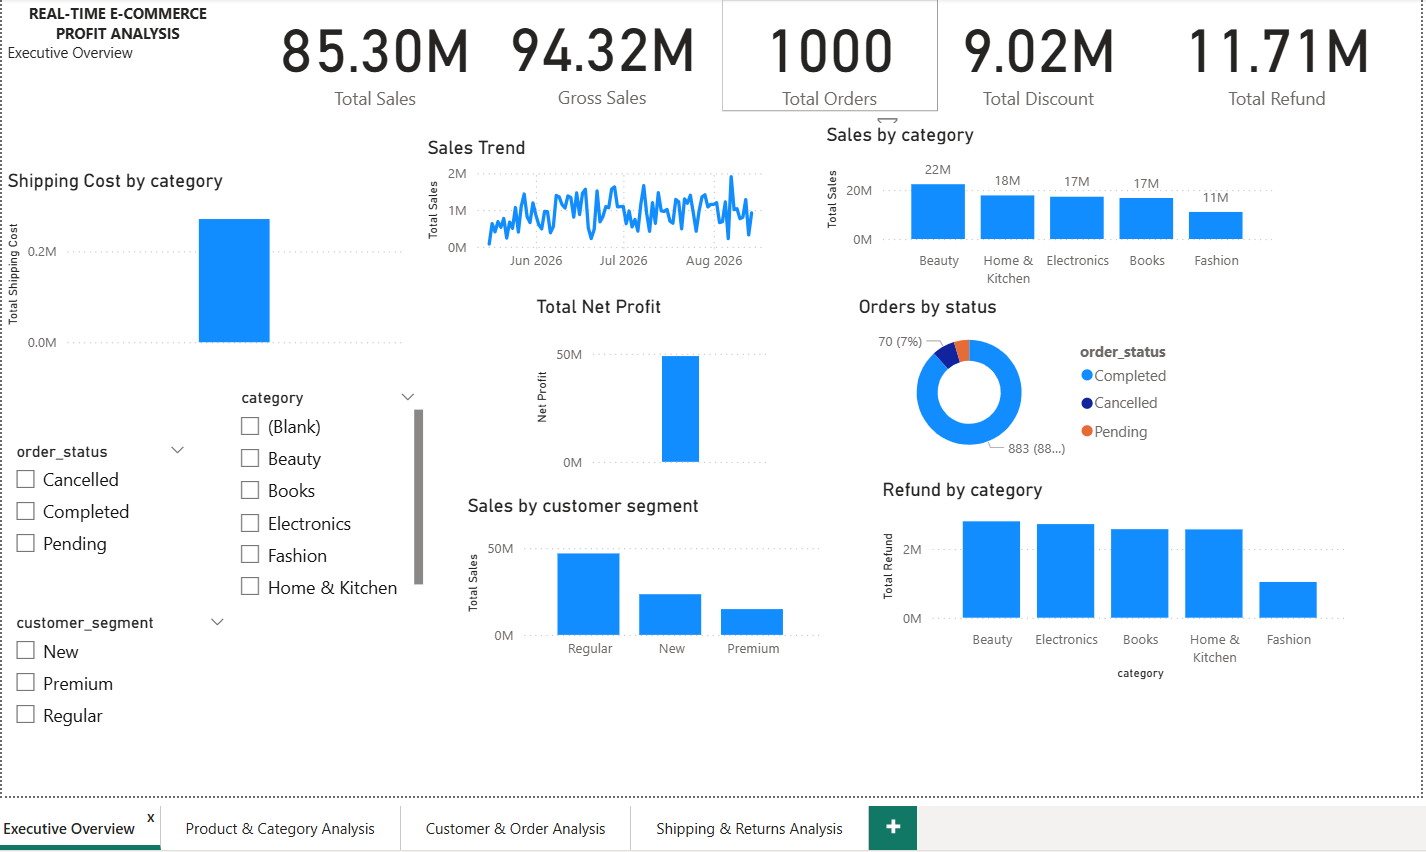

What the dashboard file says about the page in this screenshot:
{"tool":"powerbi","page":{"name":"Executive Overview","canvas":[1280,720],"ordinal":0},"visuals":[{"type":"card","fields":{"Values":["orders.Total Sales"]},"box":[239.7,1.2,193,101.9],"z":0},{"type":"card","fields":{"Values":["orders.Total Discount"]},"box":[843.7,1.2,181,101.9],"z":1000},{"type":"card","fields":{"Values":["orders.Total Refund"]},"box":[1024.7,1.2,250.5,101.9],"z":2000},{"type":"card","fields":{"Values":["orders.Total Orders"]},"box":[649.6,1.2,194.2,101.9],"z":3000},{"type":"card","fields":{"Values":["orders.Gross Sales"]},"box":[432.7,0,216.9,101.9],"z":4000},{"type":"lineChart","title":"Sales Trend","fields":{"Category":["orders.order_datetime.Variation.Date Hierarchy.Year","orders.order_datetime.Variation.Date Hierarchy.Quarter","orders.order_datetime.Variation.Date Hierarchy.Month","orders.order_datetime.Variation.Date Hierarchy.Day"],"Y":["orders.Total Sales"]},"box":[378.7,124.6,328.4,129.4],"z":5000},{"type":"clusteredColumnChart","title":" Sales by category","fields":{"Category":["products.category"],"Y":["orders.Total Sales"]},"box":[738.3,112.7,412.3,155.8],"z":6000},{"type":"clusteredColumnChart","title":"Total Net Profit","fields":{"Y":["orders.Net Profit"]},"box":[477,268.5,220.5,164.2],"z":7000},{"type":"donutChart","title":"Orders by status","fields":{"Category":["orders.order_status"],"Y":["orders.Total Orders"]},"box":[767,268.5,304.4,155.8],"z":8000},{"type":"slicer","fields":{"Values":["products.category"]},"box":[202.5,347.6,182.2,199],"z":9000},{"type":"slicer","fields":{"Values":["orders.order_status"]},"box":[0,395.5,177.4,117.5],"z":10000},{"type":"slicer","fields":{"Values":["customers.customer_segment"]},"box":[0,550.1,213.3,117.5],"z":11000},{"type":"clusteredColumnChart","title":"Sales by customer segment","fields":{"Category":["customers.customer_segment"],"Y":["orders.Total Sales"]},"box":[414.7,447,327.2,157],"z":13001},{"type":"clusteredColumnChart","title":"Refund by category","fields":{"Category":["products.category"],"Y":["orders.Total Refund"]},"box":[788.6,432.7,430.3,187],"z":13002},{"type":"clusteredColumnChart","title":"Shipping Cost by category","fields":{"Y":["orders.Total Shipping Cost"]},"box":[0,154.6,367.9,170.2],"z":13003},{"type":"textbox","box":[0,0,208.5,155.8],"z":13004}]}

Visuals, with their boxes on the page's 1280x720 design canvas (x1, y1, x2, y2). These are canvas units, not pixel positions in the 1426x852 screenshot, which may show the page scaled, cropped or inside an application window:
card - orders.Total Sales: pyautogui.locateOnScreen(240, 1, 433, 103)
card - orders.Total Discount: pyautogui.locateOnScreen(844, 1, 1025, 103)
card - orders.Total Refund: pyautogui.locateOnScreen(1025, 1, 1275, 103)
card - orders.Total Orders: pyautogui.locateOnScreen(650, 1, 844, 103)
card - orders.Gross Sales: pyautogui.locateOnScreen(433, 0, 650, 102)
"Sales Trend" lineChart: pyautogui.locateOnScreen(379, 125, 707, 254)
" Sales by category" clusteredColumnChart: pyautogui.locateOnScreen(738, 113, 1151, 268)
"Total Net Profit" clusteredColumnChart: pyautogui.locateOnScreen(477, 268, 698, 433)
"Orders by status" donutChart: pyautogui.locateOnScreen(767, 268, 1071, 424)
slicer - products.category: pyautogui.locateOnScreen(202, 348, 385, 547)
slicer - orders.order_status: pyautogui.locateOnScreen(0, 396, 177, 513)
slicer - customers.customer_segment: pyautogui.locateOnScreen(0, 550, 213, 668)
"Sales by customer segment" clusteredColumnChart: pyautogui.locateOnScreen(415, 447, 742, 604)
"Refund by category" clusteredColumnChart: pyautogui.locateOnScreen(789, 433, 1219, 620)
"Shipping Cost by category" clusteredColumnChart: pyautogui.locateOnScreen(0, 155, 368, 325)
textbox: pyautogui.locateOnScreen(0, 0, 208, 156)
